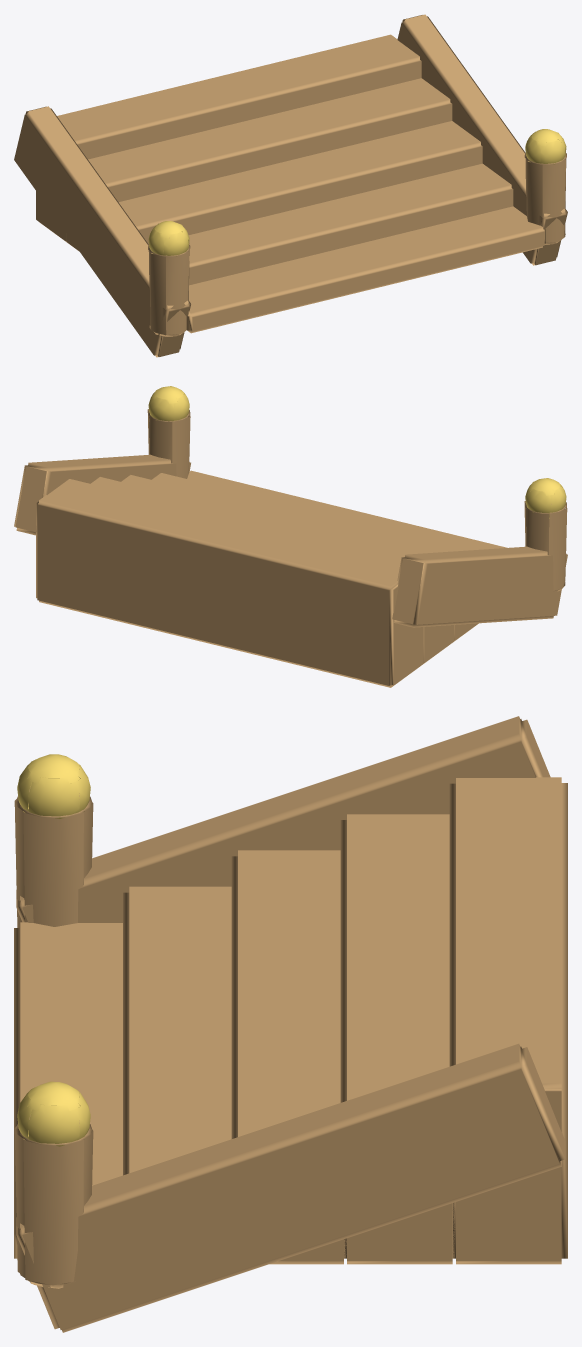
Rendered from castle_stairs_wood.glb.
The picture shows the model from 3 angles, top to bottom: view 1: azimuth 30°, elevation 25°; view 2: azimuth 150°, elevation 25°; view 3: azimuth 270°, elevation 25°; orthographic projection. The views are drawn at different scales.
Visible parts, largest first — view 1: Step_4, Step_3, Step_0, Step_2, Step_1, Cheek_-2.42, Cheek_2.42, Newel_-2.42, Newel_2.42, NewelCap_2.42, NewelCap_-2.42; view 2: Step_4, Cheek_-2.42, Cheek_2.42, Step_3, Step_2, Step_1, Step_0, Newel_-2.42, Newel_2.42, NewelCap_-2.42, NewelCap_2.42; view 3: Cheek_2.42, Step_4, Step_3, Step_2, Step_1, Cheek_-2.42, Step_0, Newel_2.42, Newel_-2.42, NewelCap_-2.42, NewelCap_2.42.
Part boxes in pixels (x1,y1,x2,y2): Step_4: (36, 34, 421, 243); Step_3: (66, 78, 452, 251); Step_0: (186, 206, 545, 333); Step_2: (119, 121, 482, 244); Step_1: (188, 163, 513, 285); Cheek_-2.42: (14, 106, 190, 357); Cheek_2.42: (397, 14, 567, 265); Newel_-2.42: (148, 245, 190, 336); Newel_2.42: (524, 153, 566, 244); NewelCap_2.42: (525, 129, 566, 164); NewelCap_-2.42: (148, 221, 189, 256); Step_4: (36, 479, 423, 687); Cheek_-2.42: (392, 546, 567, 627); Cheek_2.42: (14, 454, 190, 535); Step_3: (91, 477, 454, 665); Step_2: (121, 475, 478, 642); Step_1: (152, 473, 476, 551); Step_0: (187, 470, 507, 549); Newel_-2.42: (524, 501, 567, 591); Newel_2.42: (147, 409, 190, 478); NewelCap_-2.42: (525, 478, 566, 518); NewelCap_2.42: (148, 386, 189, 421); Cheek_2.42: (16, 1043, 565, 1332); Step_4: (449, 777, 567, 1264); Step_3: (340, 814, 455, 1264); Step_2: (231, 850, 346, 1264); Step_1: (123, 886, 231, 1175); Cheek_-2.42: (16, 716, 550, 922); Step_0: (14, 922, 122, 1258); Newel_2.42: (14, 1115, 93, 1288); Newel_-2.42: (14, 787, 93, 927); NewelCap_-2.42: (17, 754, 90, 818); NewelCap_2.42: (17, 1081, 90, 1146).
Bounding box in the file's own units: 5.35 × 1.87 × 3.46.
